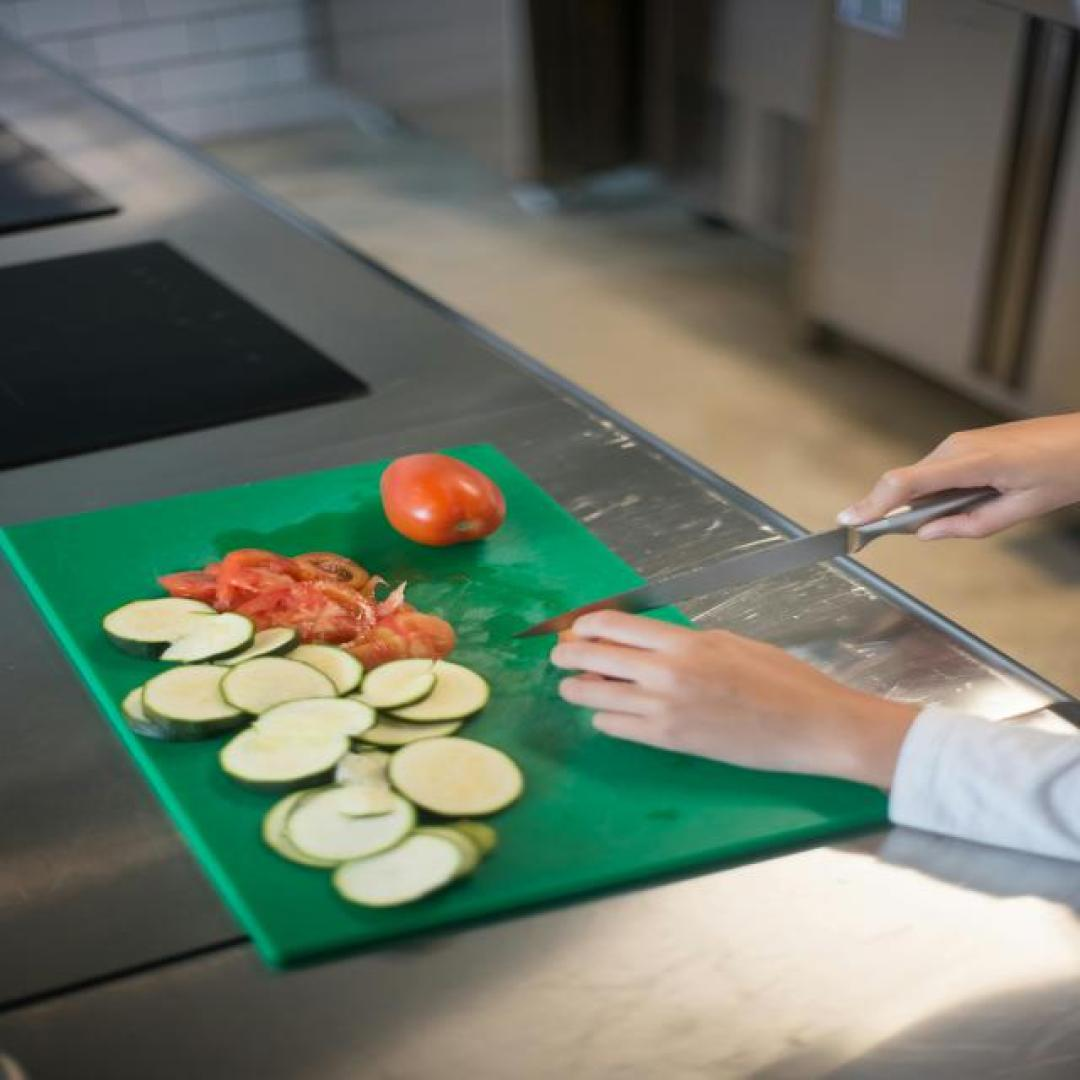matang: (382, 454, 505, 547)
